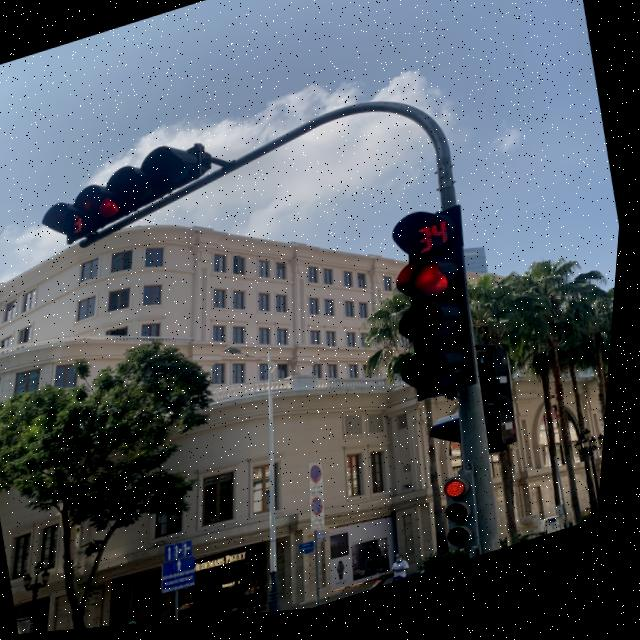Red: (372, 244, 499, 422), (62, 129, 234, 241), (441, 473, 501, 562)
